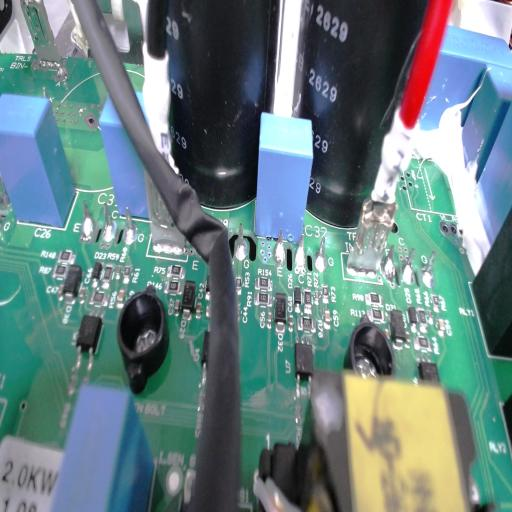pin_group: (76, 187, 141, 252), (269, 220, 330, 278), (382, 240, 440, 292), (231, 212, 251, 267)
solder_ball: (100, 200, 119, 242), (232, 219, 250, 262), (79, 198, 97, 240), (271, 229, 291, 265), (419, 248, 436, 289), (122, 204, 138, 247), (384, 242, 399, 283), (292, 232, 306, 273), (314, 235, 327, 273), (402, 246, 414, 287)
